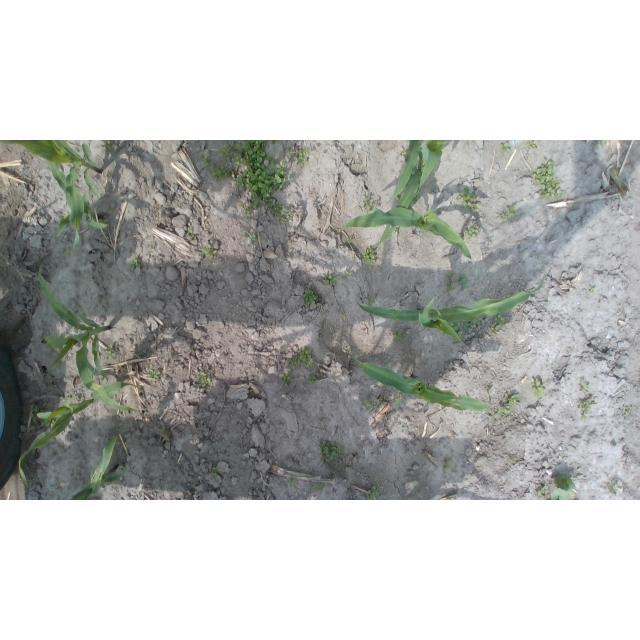Maize: (37, 262, 137, 413), (19, 383, 147, 489), (356, 278, 547, 347), (1, 141, 104, 248), (345, 209, 480, 277), (352, 355, 489, 413), (379, 140, 447, 242), (52, 161, 109, 244), (69, 436, 128, 500), (386, 140, 423, 204)
Weeds: (215, 140, 291, 204), (529, 161, 564, 201), (199, 152, 229, 181), (289, 347, 319, 370), (319, 439, 343, 466), (456, 188, 481, 212), (552, 477, 577, 500), (266, 203, 292, 225), (286, 144, 311, 164), (362, 242, 381, 265), (579, 398, 596, 420), (491, 314, 509, 334), (30, 404, 46, 425), (302, 290, 319, 307), (449, 321, 464, 339), (279, 370, 294, 388), (201, 244, 217, 260), (532, 380, 546, 397), (464, 225, 481, 239), (500, 206, 517, 220), (367, 485, 382, 500), (102, 140, 115, 157), (495, 407, 512, 420), (322, 272, 337, 286), (534, 484, 549, 498), (608, 479, 622, 494), (128, 255, 141, 271), (198, 371, 211, 387), (464, 320, 481, 332), (456, 272, 468, 289), (240, 205, 256, 216), (104, 348, 120, 359), (148, 368, 160, 380), (366, 200, 377, 213), (308, 373, 321, 384), (507, 395, 519, 406), (394, 393, 404, 405), (288, 477, 298, 489), (364, 400, 377, 409), (209, 467, 220, 477), (529, 140, 540, 149), (501, 143, 512, 152), (44, 420, 55, 429), (445, 272, 457, 280), (581, 383, 590, 393), (248, 233, 257, 243), (313, 483, 324, 491), (413, 192, 420, 204), (393, 332, 402, 341), (444, 460, 452, 470), (65, 248, 74, 256), (368, 294, 376, 302), (447, 285, 457, 291), (342, 271, 352, 277), (589, 286, 596, 294), (364, 196, 370, 205), (626, 406, 632, 414), (402, 423, 408, 430), (508, 457, 517, 461), (489, 237, 495, 243), (401, 151, 407, 157), (188, 227, 193, 234), (50, 377, 55, 383), (488, 388, 493, 393), (600, 140, 606, 144)
